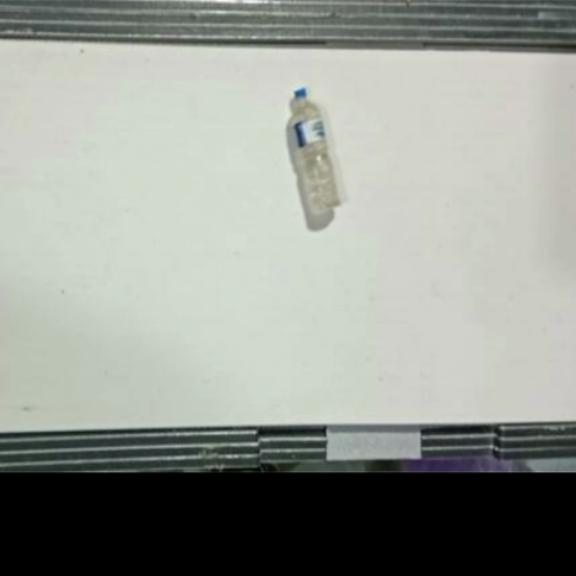Plastik: (290, 87, 341, 215)
